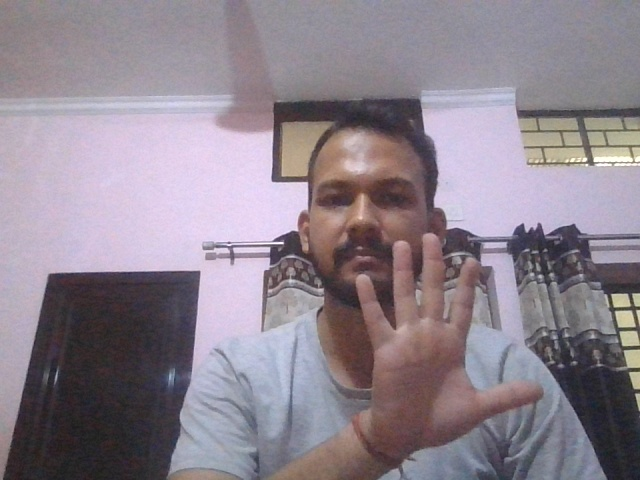hello: (354, 232, 543, 456)
